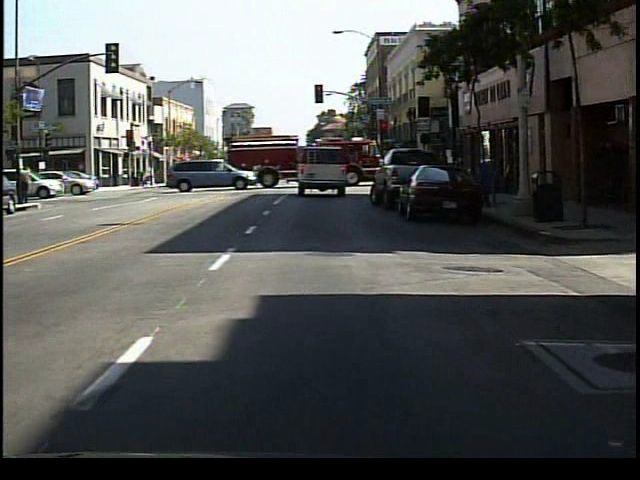person: (20, 164, 34, 207)
